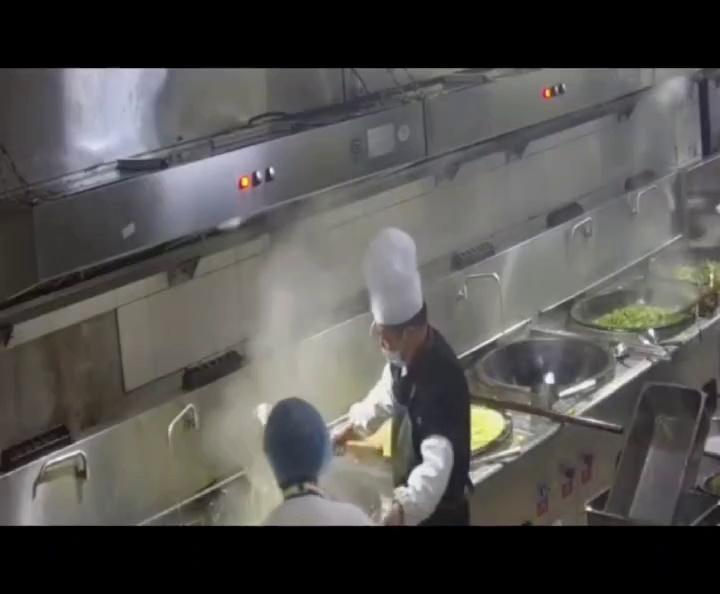mask: (374, 328, 412, 366)
